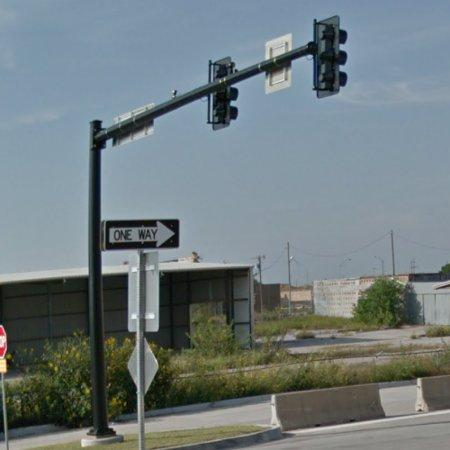traffic lights: (314, 15, 347, 99), (208, 56, 241, 129)
